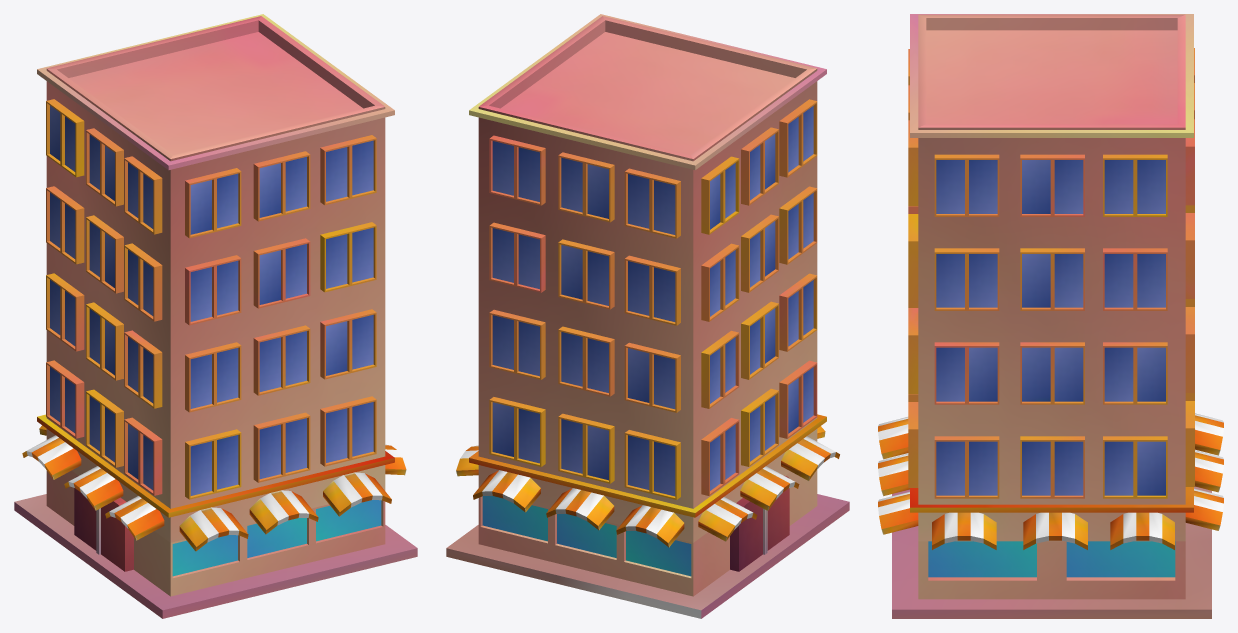
Rendered from House_1.glb.
3 renders of one model, left to right at view 1: azimuth 30°, elevation 25°; view 2: azimuth 150°, elevation 25°; view 3: azimuth 270°, elevation 25°, orthographic. The views are drawn at different scales.
Parts seen in each view (by area): view 1: House.1; view 2: House.1; view 3: House.1.
Boxes of the visible parts, x1=… form: House.1: x1=14, y1=14, x2=417, y2=618; House.1: x1=446, y1=14, x2=849, y2=618; House.1: x1=878, y1=14, x2=1223, y2=618.
Size of the model in its own units: 1065 by 1638 by 1068.
Materials: 1 (1 with a texture image).
